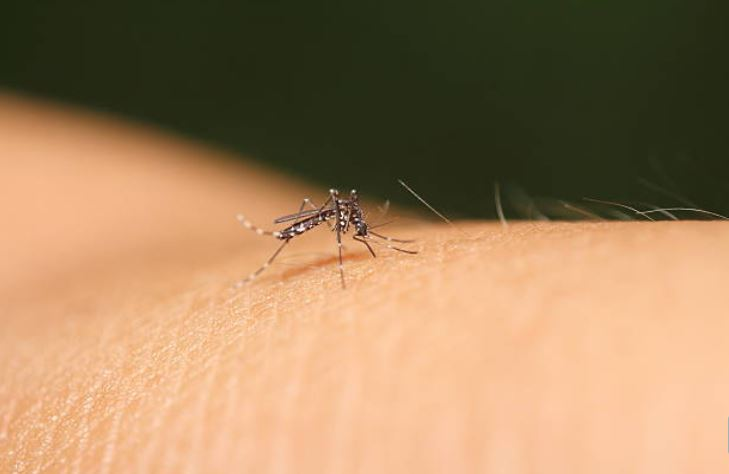dengue_mosquito: (225, 188, 419, 292)
